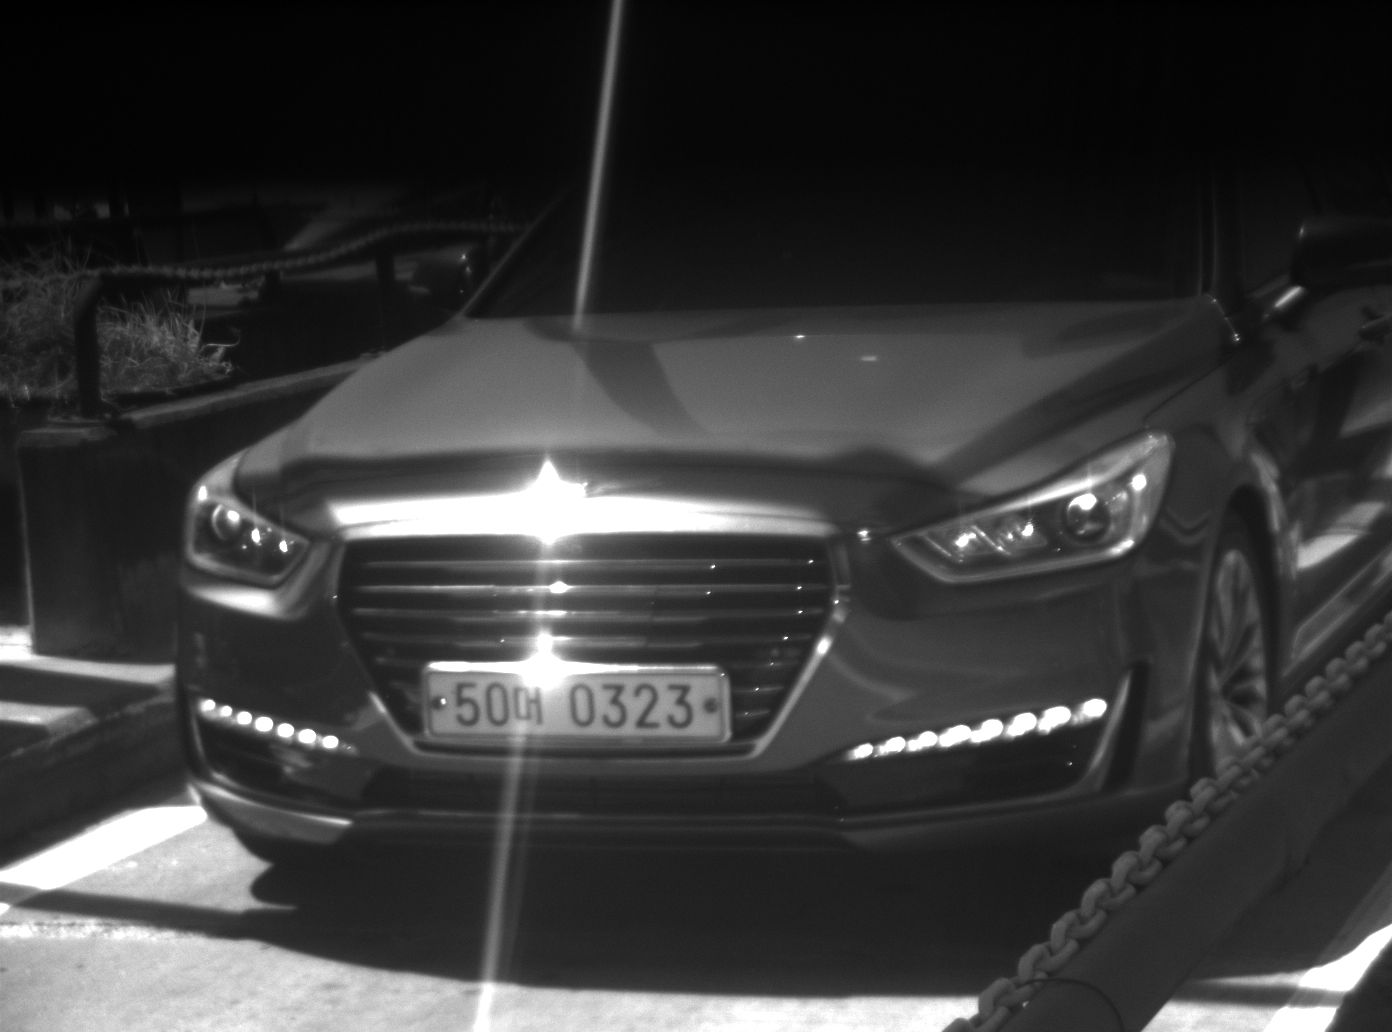car: (179, 194, 1392, 888)
plate: (423, 665, 729, 740)
